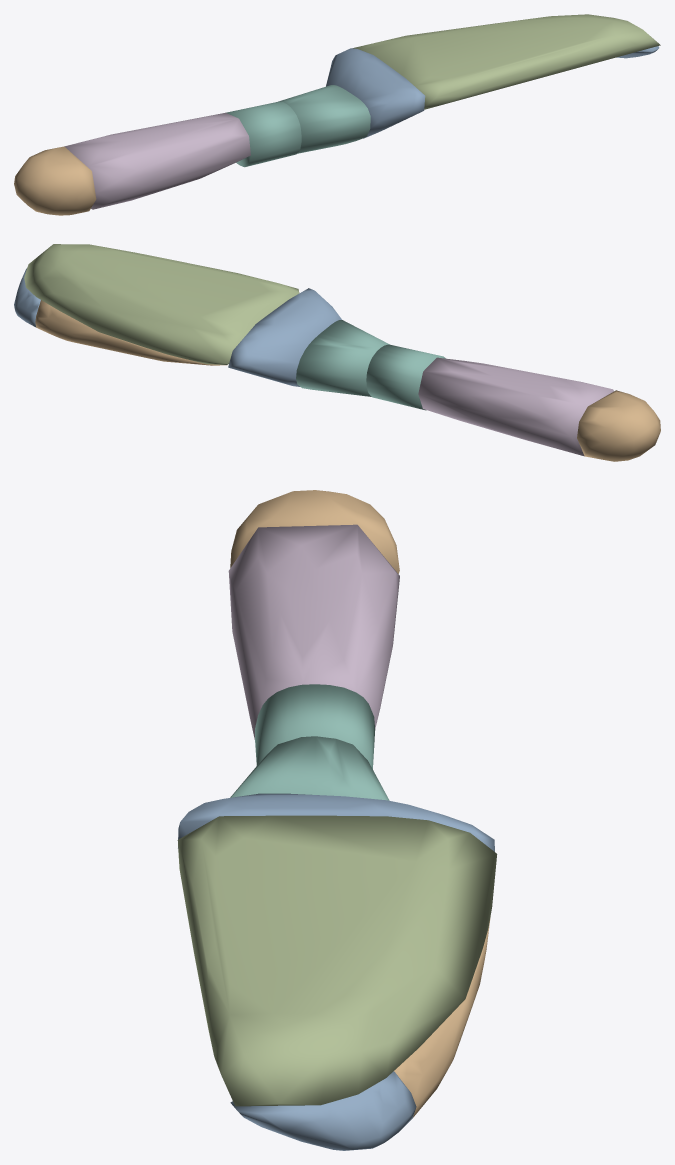
The picture shows the model from 3 angles, top to bottom: view 1: azimuth 30°, elevation 25°; view 2: azimuth 150°, elevation 25°; view 3: azimuth 270°, elevation 25°; orthographic projection. The views are drawn at different scales.
Size of the model in its own units: 2 by 0.1816 by 0.4438.
